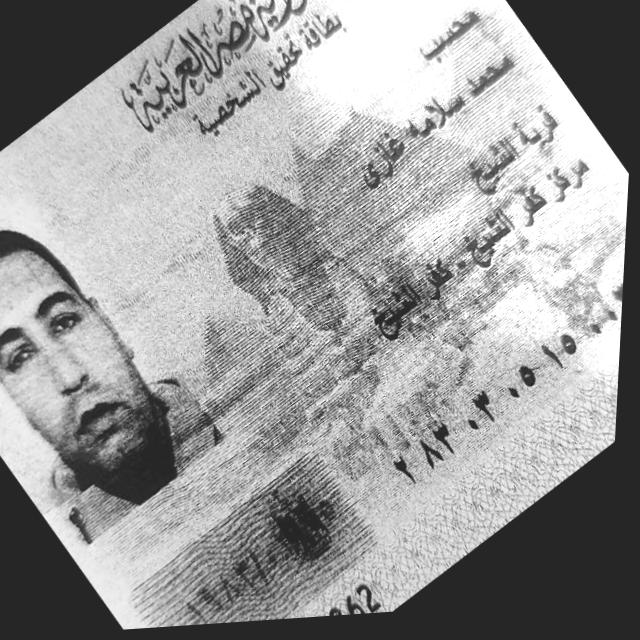front: (0, 0, 629, 630)
